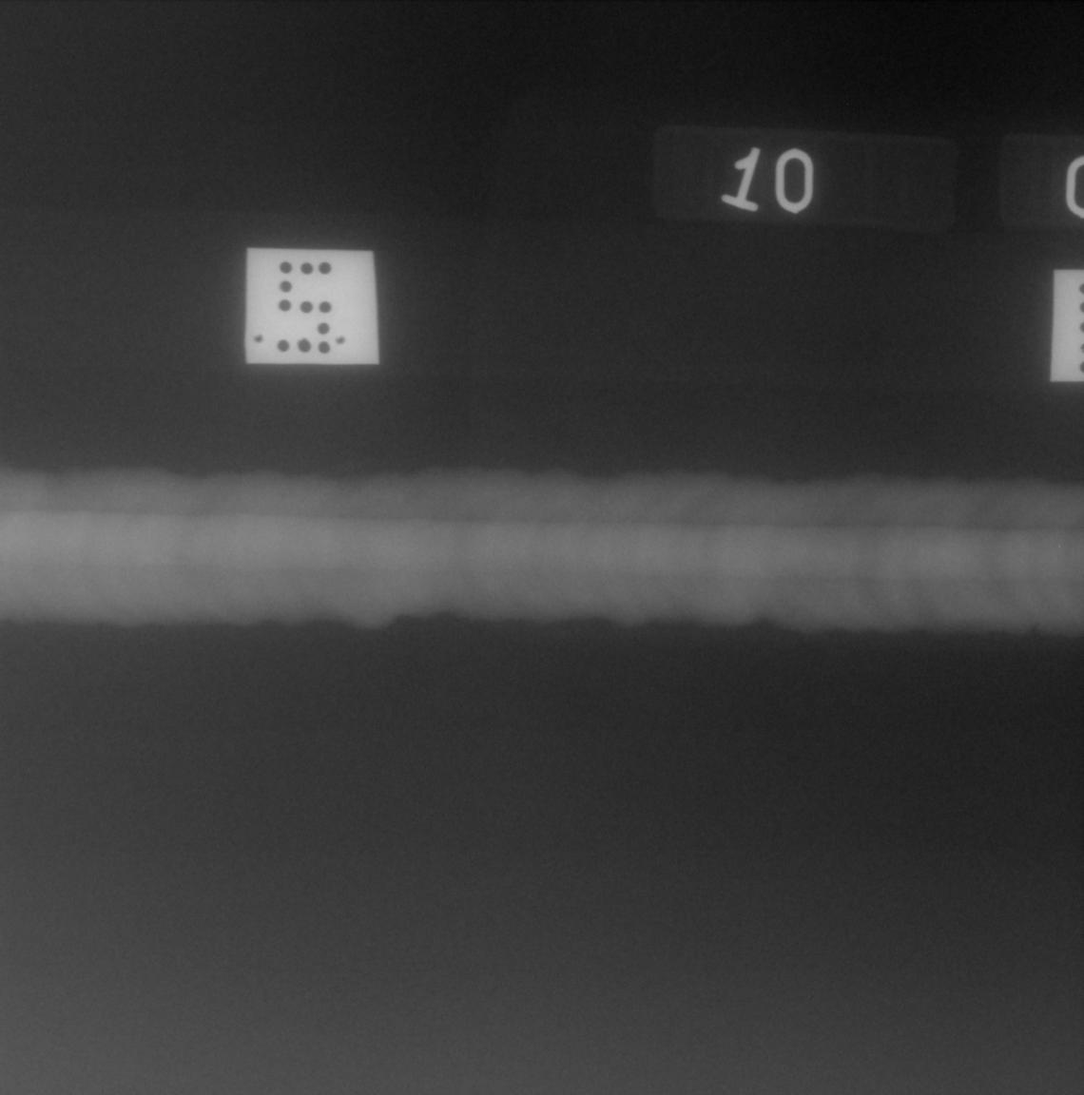Pore/Porosity: (174, 556, 191, 561), (277, 491, 287, 499), (737, 576, 742, 581)
